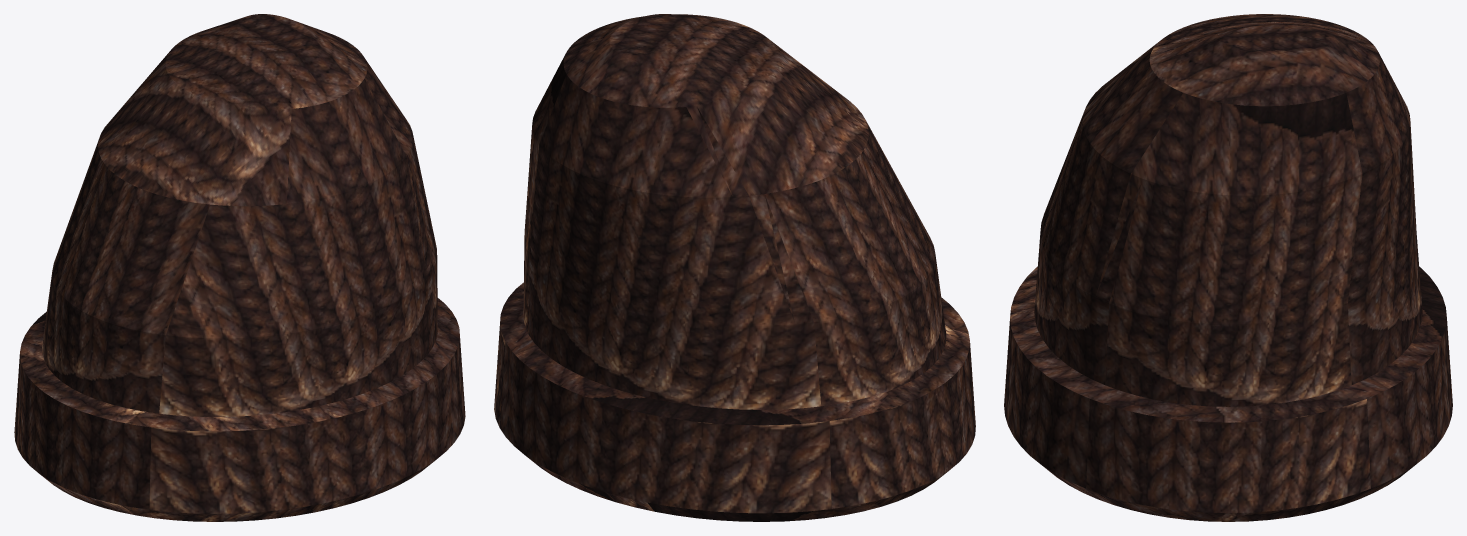
3 views of the same model, side by side, from view 1: azimuth 30°, elevation 25°; view 2: azimuth 150°, elevation 25°; view 3: azimuth 270°, elevation 25° (orthographic). The views are drawn at different scales.
Visible parts, largest first — view 1: hollow_crown_and_rim; view 2: hollow_crown_and_rim; view 3: hollow_crown_and_rim.
Boxes of the visible parts, x1,y1,x2,y2 form: hollow_crown_and_rim: (14,14,465,521); hollow_crown_and_rim: (494,14,975,521); hollow_crown_and_rim: (1004,14,1452,521).
Size of the model in its own units: 92.96 by 83 by 81.89.
Materials: 1 (1 with a texture image).
